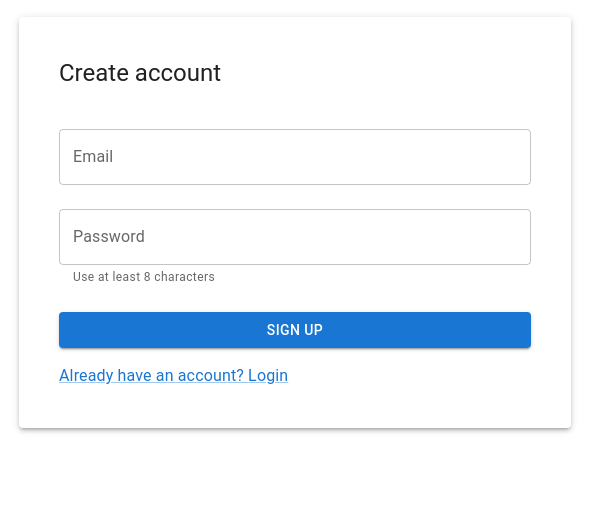
Test: shows an error when the account already exists
The width and height of the screenshot is (591, 514).
Type "new@example.com" into the field labelled "Email" at [295, 157], box [59,129,531,185]
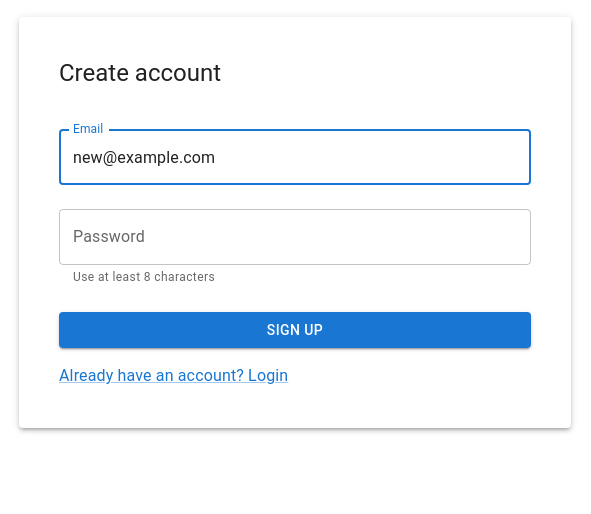
Type "password123" into the password field labelled "Password" at [295, 237], box [59,209,531,265]
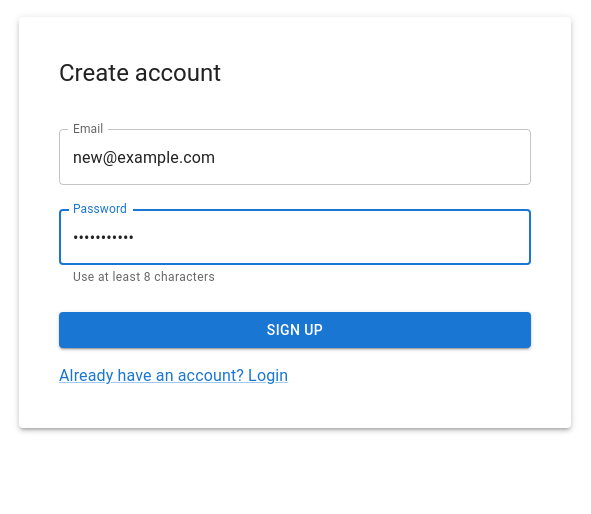
Click the button "Sign up" at [295, 330], box [59,312,531,348]
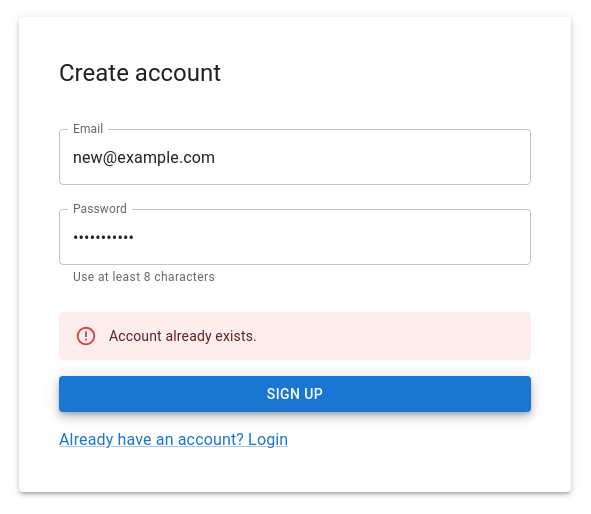
expect the text "Account already exists." is shown: met, box [109,328,257,344]
